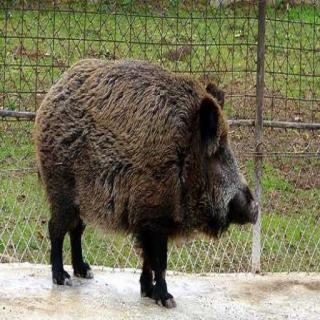Pig: (34, 0, 277, 314)
